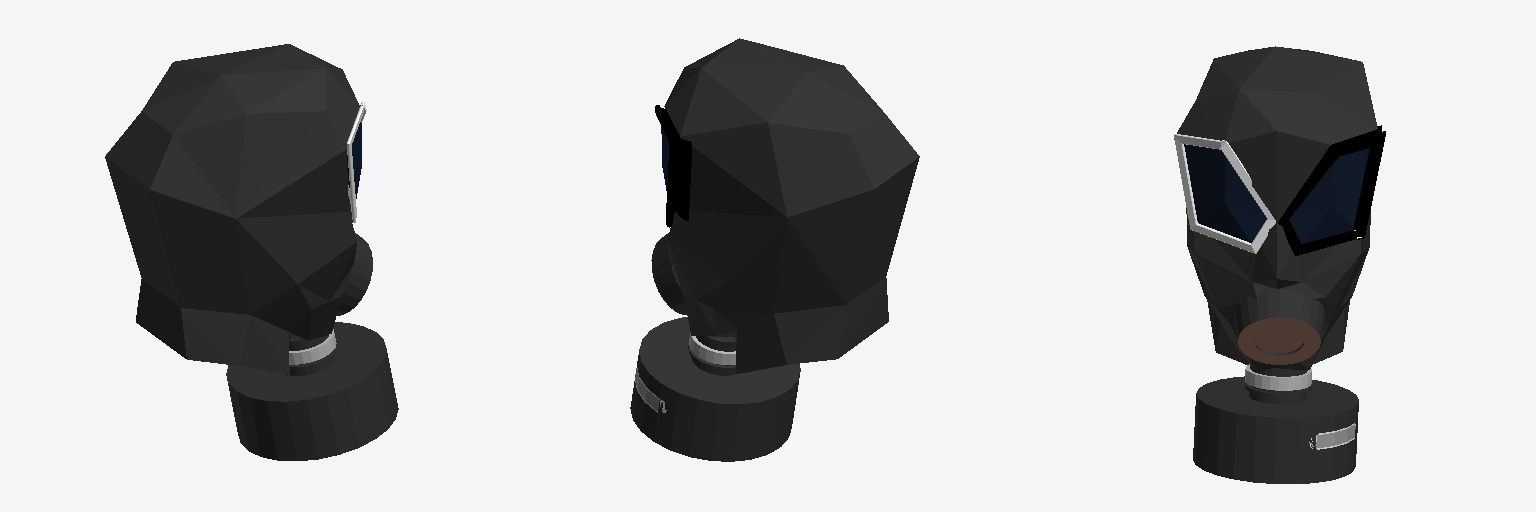
File: gasMask.obj
The picture shows the model from 3 angles: view 1: azimuth 30°, elevation 25°; view 2: azimuth 150°, elevation 25°; view 3: azimuth 270°, elevation 25°; orthographic projection.
Visible parts, largest first — view 1: Mesh5 Component_8_1 Model, Mesh2 Component_6_1 Component_8_1 Model, Mesh1 Component_4_1 Component_8_1 Model, Mesh4 Component_3_1 Component_8_1 Model; view 2: Mesh5 Component_8_1 Model, Mesh2 Component_6_1 Component_8_1 Model, Mesh3 Component_3_1 Component_8_1 Model, Mesh1 Component_4_1 Component_8_1 Model; view 3: Mesh5 Component_8_1 Model, Mesh2 Component_6_1 Component_8_1 Model, Mesh3 Component_3_1 Component_8_1 Model, Mesh4 Component_3_1 Component_8_1 Model, Mesh1 Component_4_1 Component_8_1 Model.
Boxes of the visible parts, x1=… form: Mesh5 Component_8_1 Model: x1=105, y1=44, x2=359, y2=374; Mesh2 Component_6_1 Component_8_1 Model: x1=226, y1=322, x2=398, y2=460; Mesh1 Component_4_1 Component_8_1 Model: x1=337, y1=233, x2=372, y2=315; Mesh4 Component_3_1 Component_8_1 Model: x1=347, y1=101, x2=366, y2=222; Mesh5 Component_8_1 Model: x1=664, y1=38, x2=919, y2=373; Mesh2 Component_6_1 Component_8_1 Model: x1=630, y1=317, x2=800, y2=461; Mesh3 Component_3_1 Component_8_1 Model: x1=655, y1=105, x2=691, y2=227; Mesh1 Component_4_1 Component_8_1 Model: x1=651, y1=233, x2=686, y2=314; Mesh5 Component_8_1 Model: x1=1174, y1=46, x2=1377, y2=370; Mesh2 Component_6_1 Component_8_1 Model: x1=1193, y1=364, x2=1358, y2=483; Mesh3 Component_3_1 Component_8_1 Model: x1=1278, y1=125, x2=1385, y2=255; Mesh4 Component_3_1 Component_8_1 Model: x1=1174, y1=134, x2=1275, y2=253; Mesh1 Component_4_1 Component_8_1 Model: x1=1234, y1=289, x2=1325, y2=364.
Bounding box in the file's own units: 195 × 276 × 139.